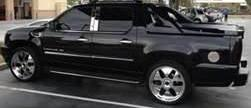side_glass: (53, 3, 137, 34)
